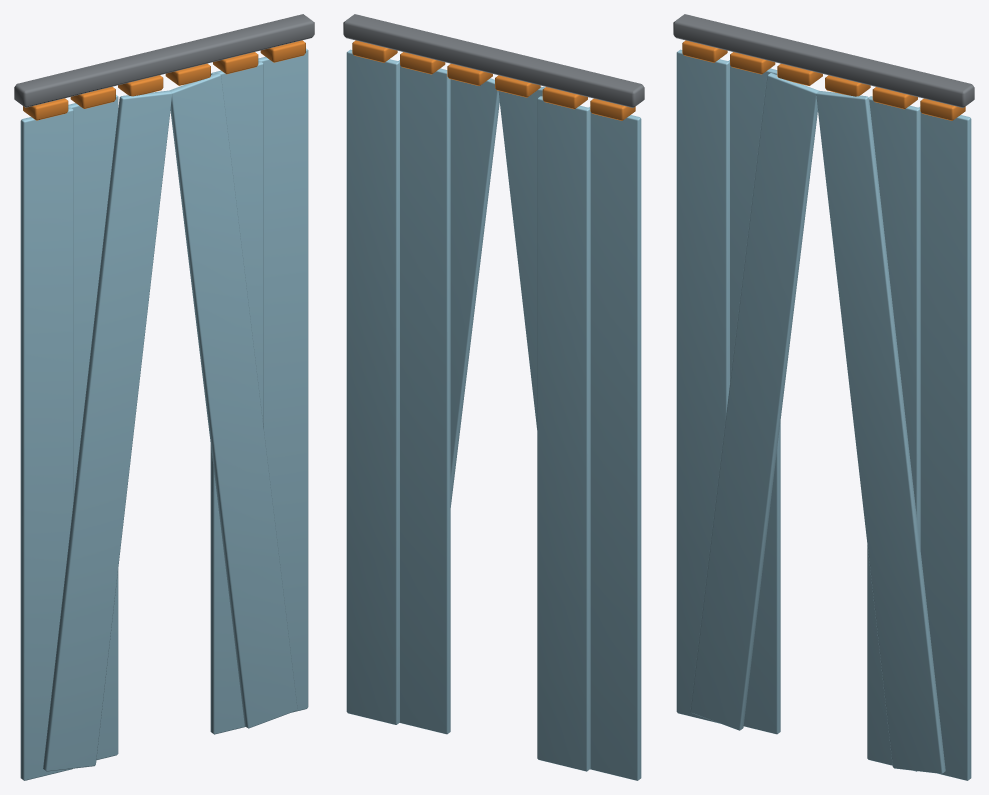
The model's file is SM_WalkIn_StripCurtain_01.glb.
3 views of the same model, side by side, from view 1: azimuth 30°, elevation 25°; view 2: azimuth 150°, elevation 25°; view 3: azimuth 330°, elevation 25° (orthographic).
Parts seen in each view (by area): view 1: SM_WalkIn_StripCurtain_01; view 2: SM_WalkIn_StripCurtain_01; view 3: SM_WalkIn_StripCurtain_01.
Boxes of the visible parts, <box> form: SM_WalkIn_StripCurtain_01: <box>14,14,314,780</box>; SM_WalkIn_StripCurtain_01: <box>343,14,644,780</box>; SM_WalkIn_StripCurtain_01: <box>673,14,974,780</box>.
Size of the model in its own units: 0.86 by 1.95 by 0.075.
Materials: 1 (1 with a texture image).
